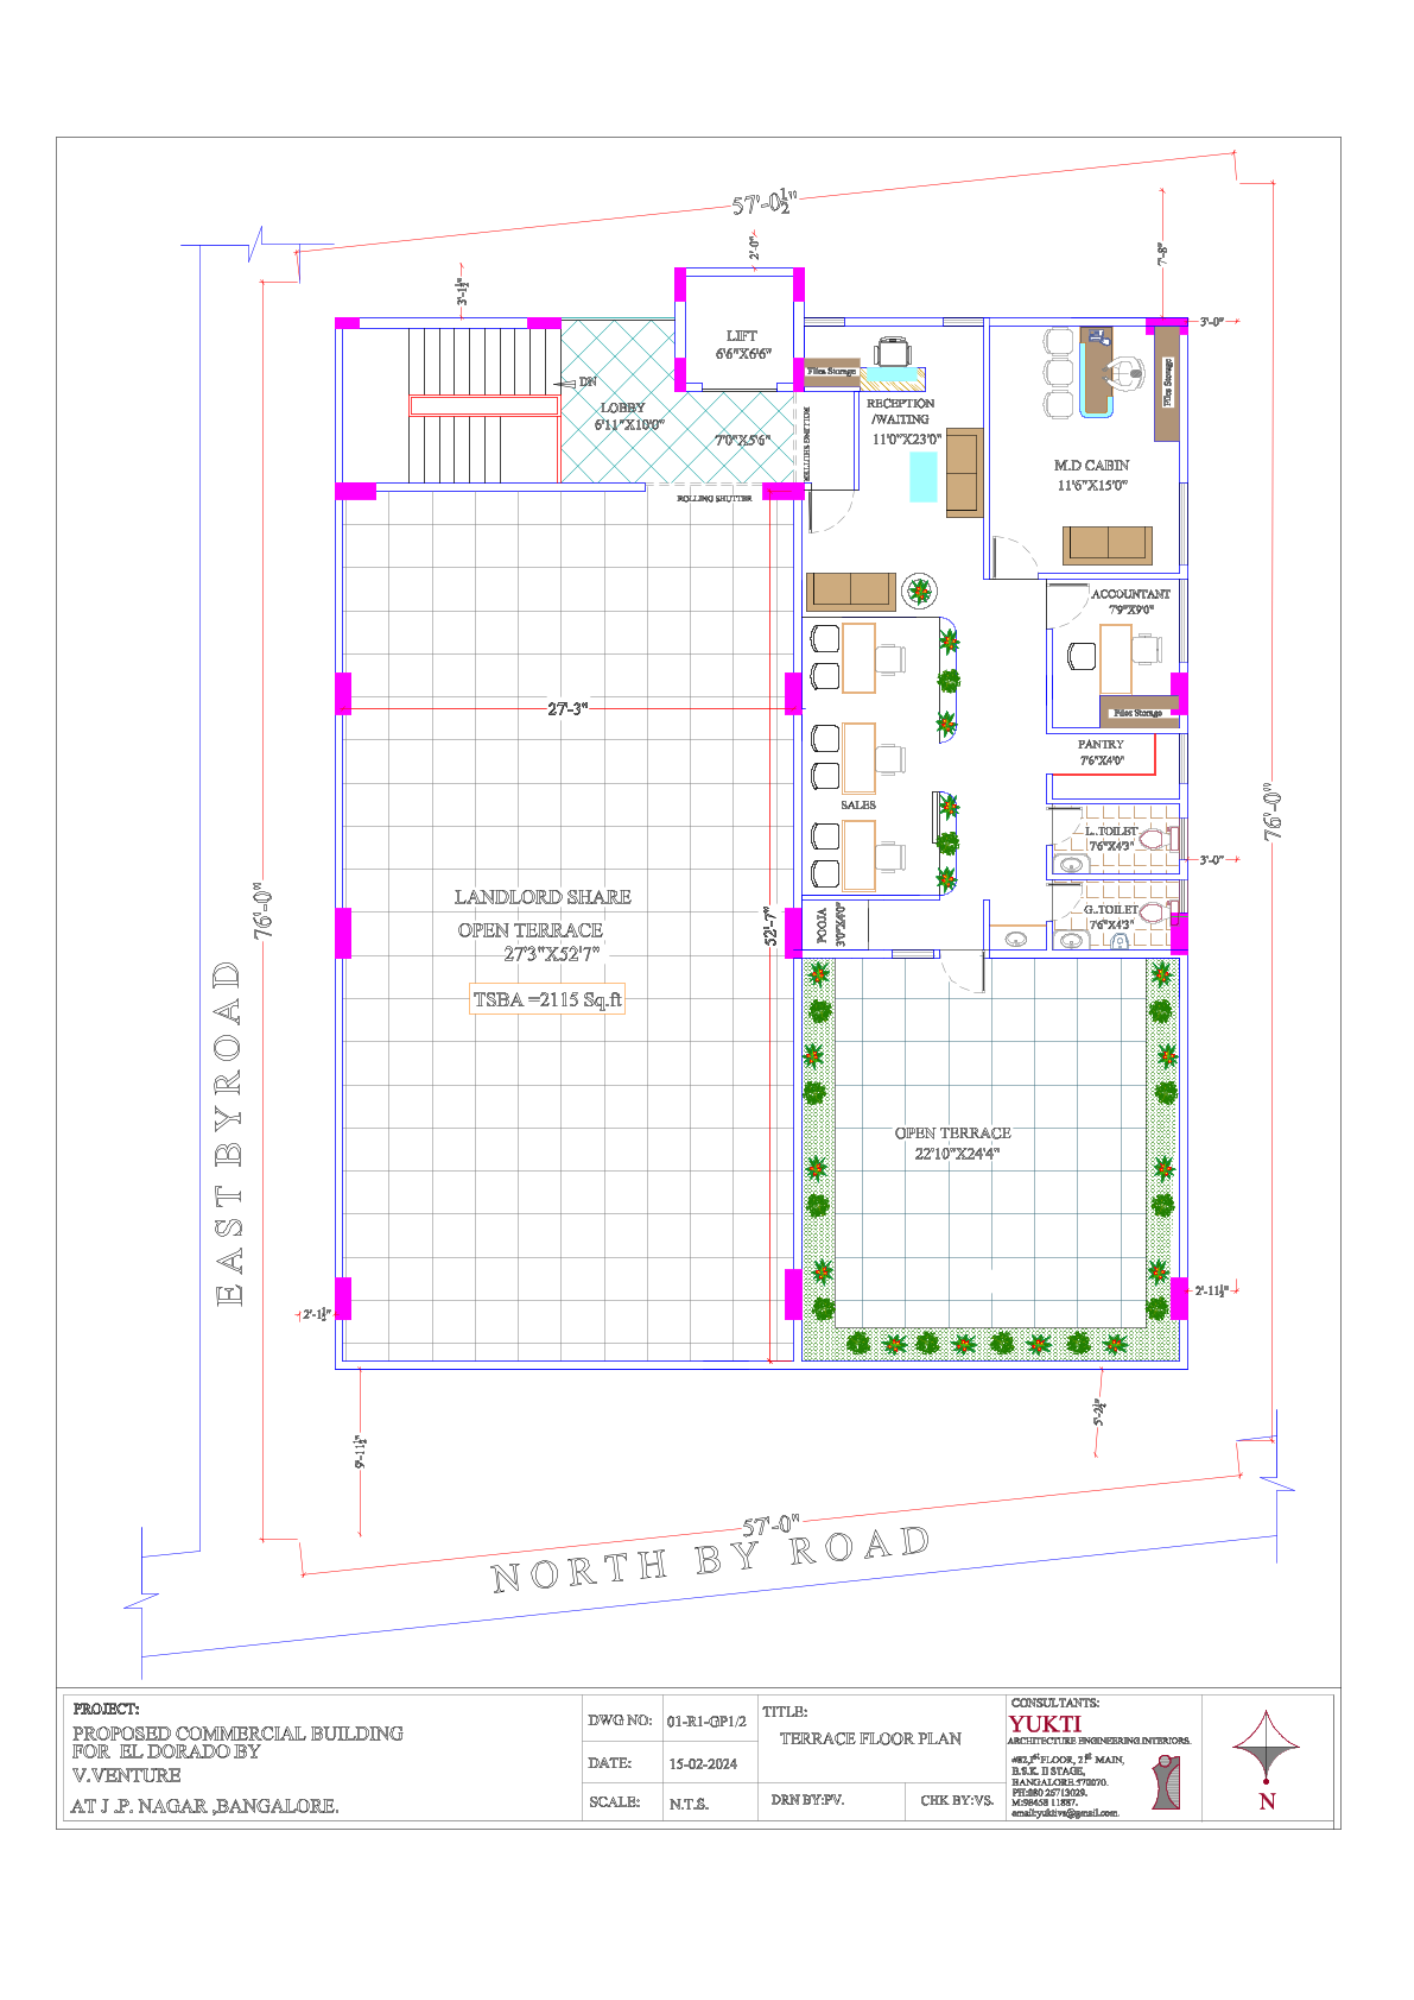door: (808, 485, 858, 536), (1046, 581, 1094, 631), (938, 949, 987, 996), (990, 533, 1038, 579), (1047, 805, 1085, 845), (1048, 881, 1084, 922)
